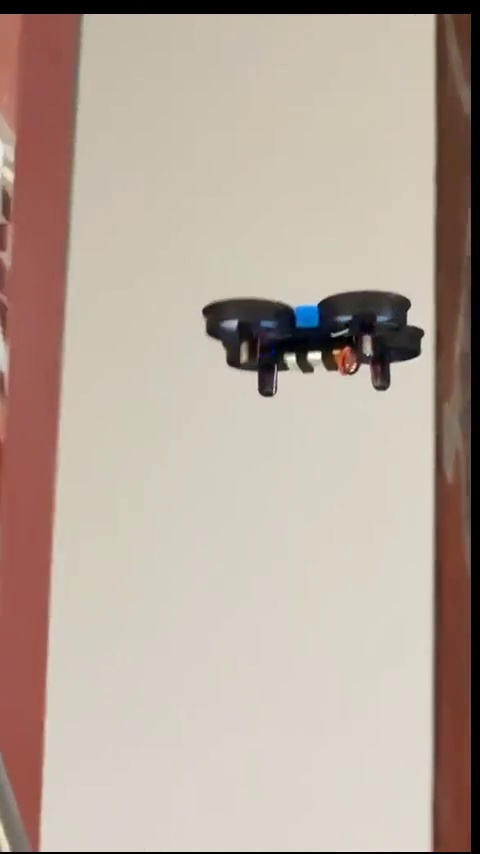drone: (200, 294, 423, 398)
